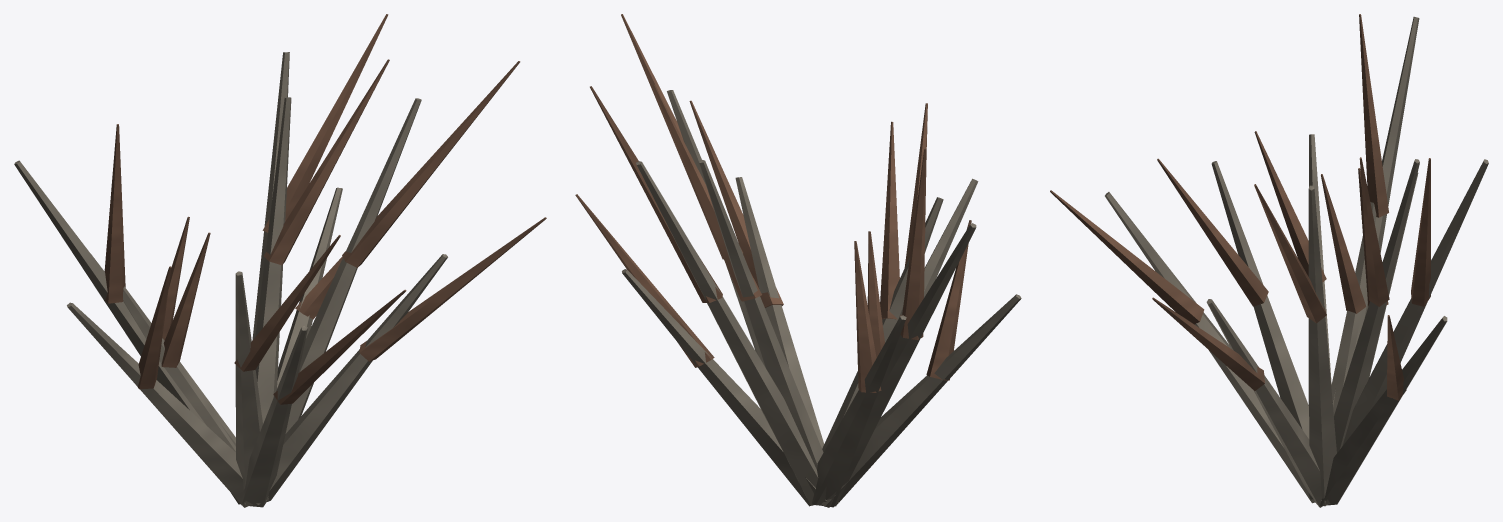
Rendered from bush_thorny_dead_02.fbx.
3 renders of one model, left to right at view 1: azimuth 30°, elevation 25°; view 2: azimuth 150°, elevation 25°; view 3: azimuth 270°, elevation 25°, orthographic. The views are drawn at different scales.
Visible parts, largest first — view 1: bush_thorny_dead_02; view 2: bush_thorny_dead_02; view 3: bush_thorny_dead_02.
Part boxes in pixels (left/top/right/bottom): bush_thorny_dead_02: left=14, top=14, right=546, bottom=507; bush_thorny_dead_02: left=575, top=14, right=1021, bottom=507; bush_thorny_dead_02: left=1050, top=14, right=1488, bottom=507.
Size of the model in its own units: 176 by 160 by 145.
1 material, 1 textured.
